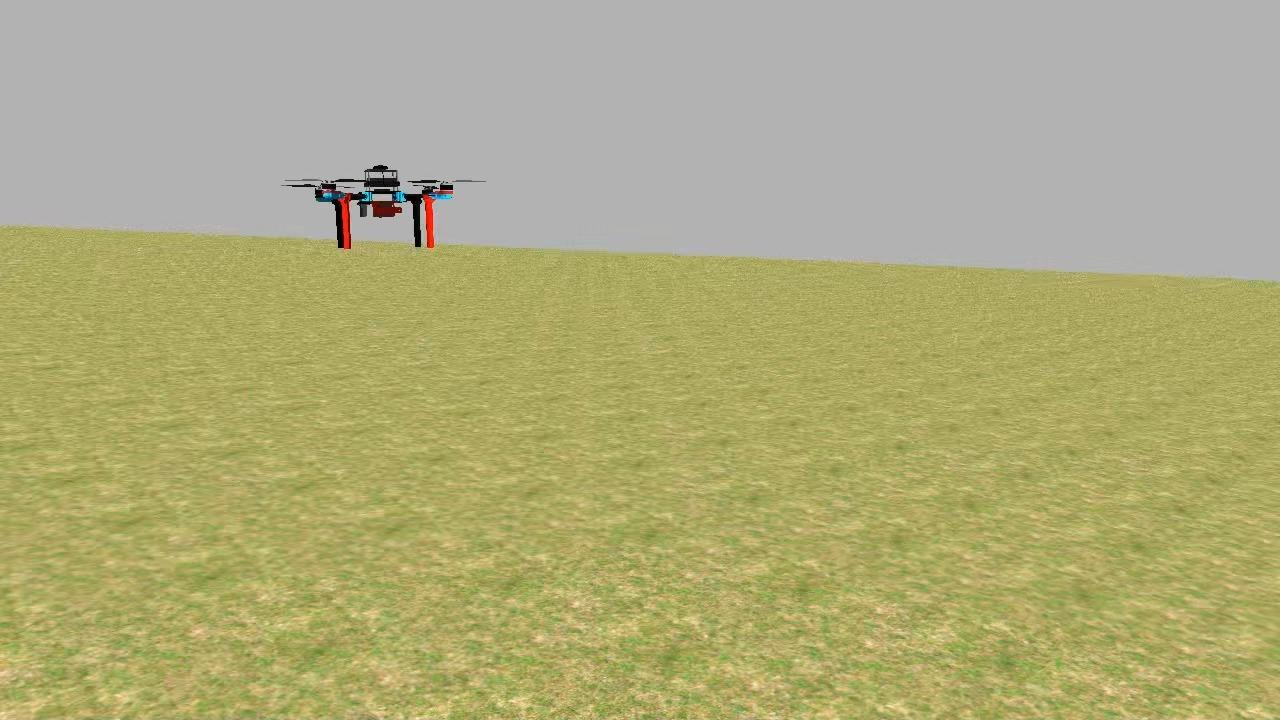UAV: (312, 158, 460, 260)
